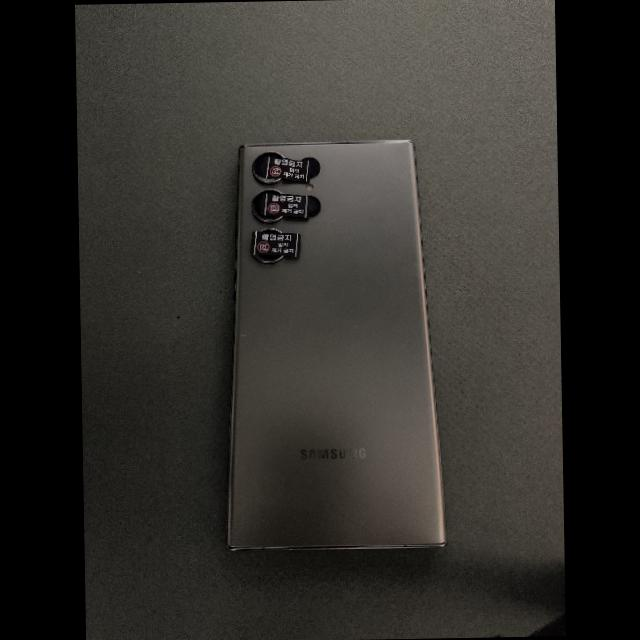lens: (251, 188, 283, 222), (254, 152, 283, 184), (253, 255, 285, 264), (304, 159, 319, 177)
phone: (226, 140, 446, 549)
sticker: (250, 230, 300, 258), (260, 156, 311, 183), (259, 193, 310, 218)
